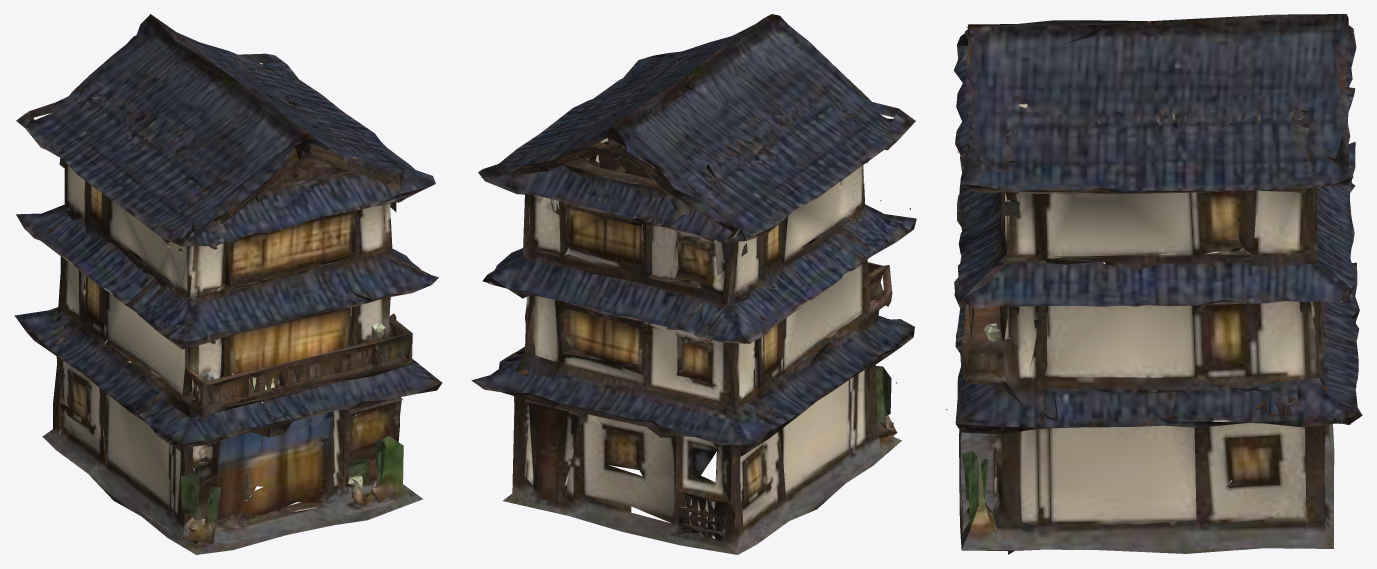
3 renders of one model, left to right at view 1: azimuth 30°, elevation 25°; view 2: azimuth 150°, elevation 25°; view 3: azimuth 270°, elevation 25°, orthographic. The views are drawn at different scales.
Parts seen in each view (by area): view 1: compact__villa_3__neural_lod; view 2: compact__villa_3__neural_lod; view 3: compact__villa_3__neural_lod.
Boxes of the visible parts, <box> form: compact__villa_3__neural_lod: <box>14,14,442,554</box>; compact__villa_3__neural_lod: <box>471,14,916,554</box>; compact__villa_3__neural_lod: <box>946,14,1362,554</box>.
Size of the model in its own units: 0.6869 by 0.9852 by 0.7747.
1 material, 1 textured.
